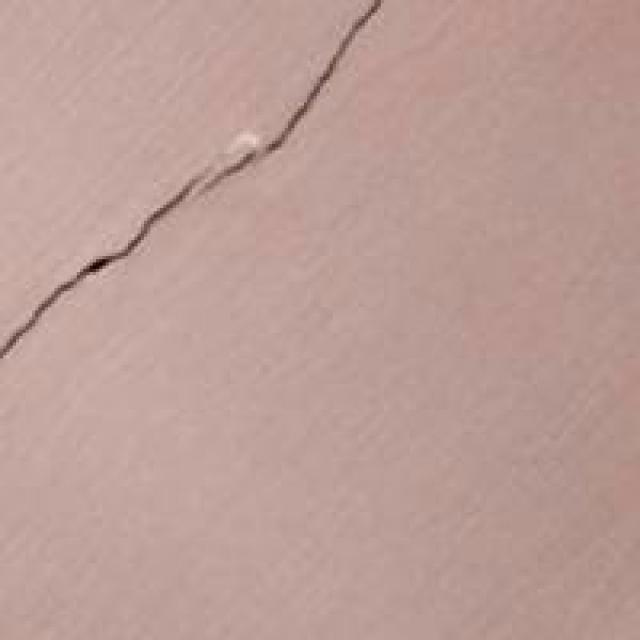crack: (0, 0, 400, 396)
